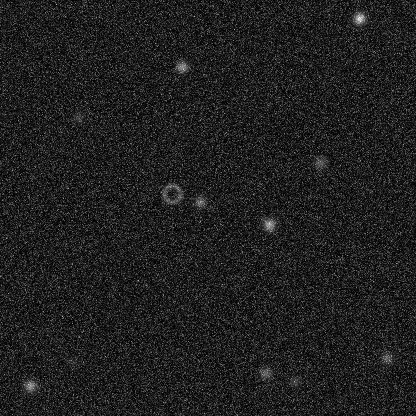Ring: (160, 181, 184, 205)
Spot: (70, 109, 86, 125), (378, 350, 394, 366), (63, 352, 79, 368), (286, 373, 302, 389), (351, 10, 367, 26), (173, 58, 189, 74), (311, 155, 327, 171), (257, 364, 273, 380), (261, 216, 277, 232), (22, 377, 38, 393), (192, 193, 208, 209)
